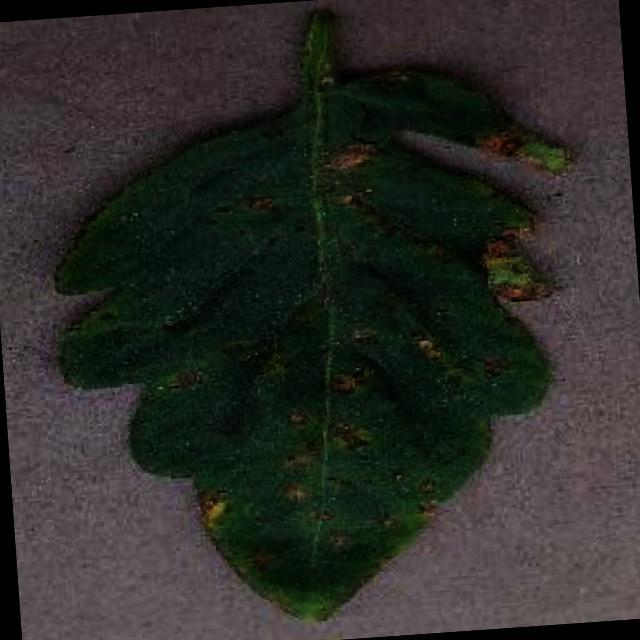Tomato bacterial spot leaf: (34, 45, 603, 640)
